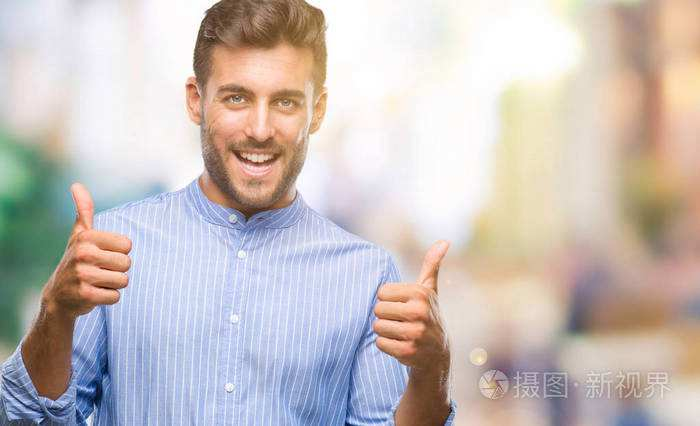no-phone: (39, 179, 134, 316), (370, 238, 457, 370)
